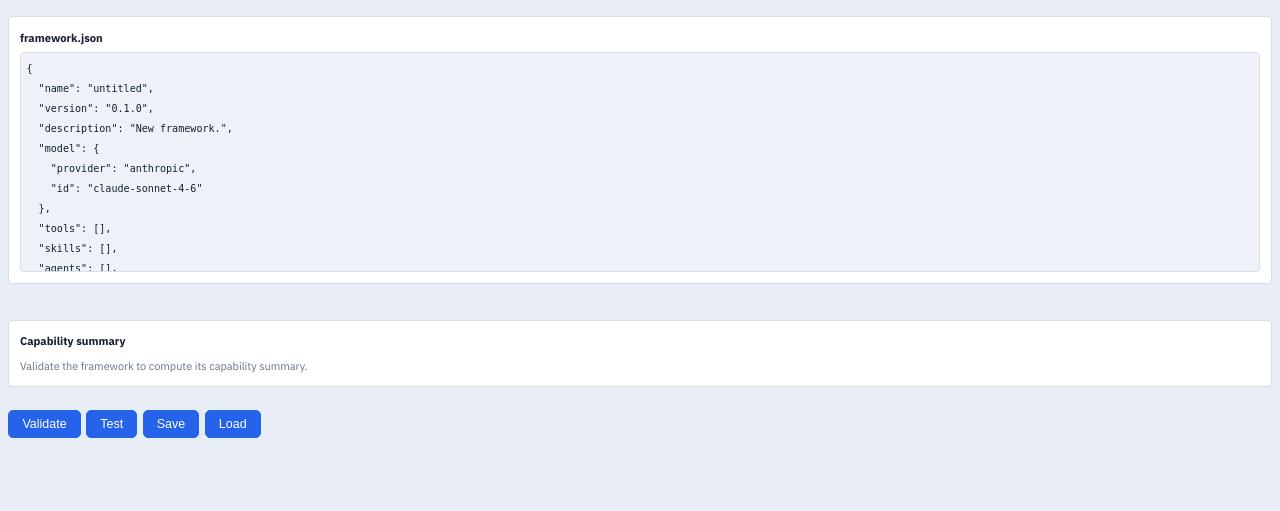
Inspector › a_failed_validate_surfaces_the_error
Click the button "Validate": (45, 424) [8, 410, 81, 438]
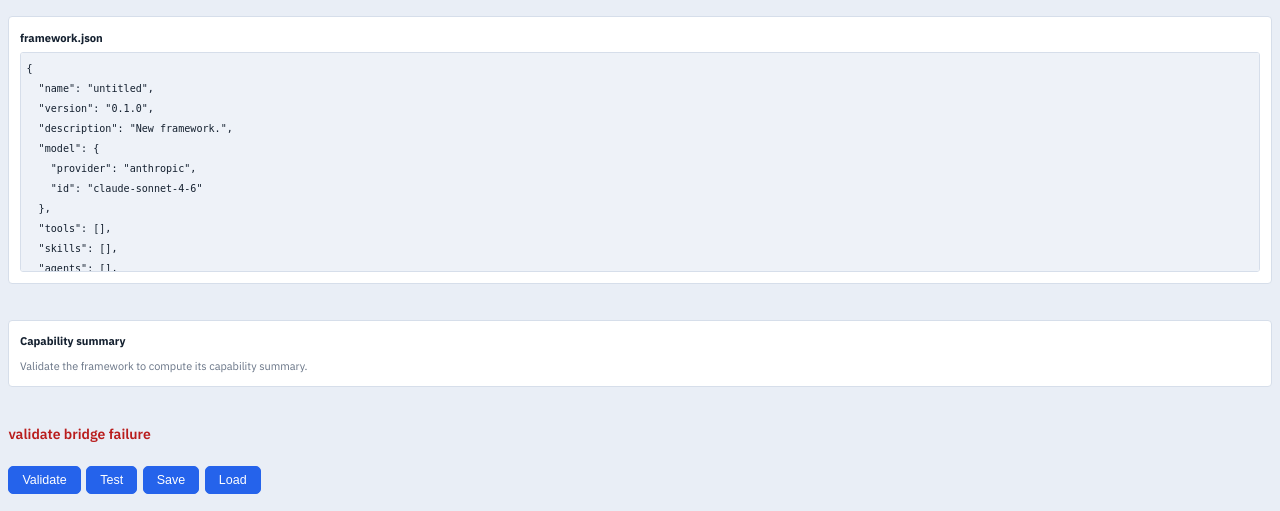
Expected: the text "validate bridge failure" is shown, [8, 424, 151, 442]
